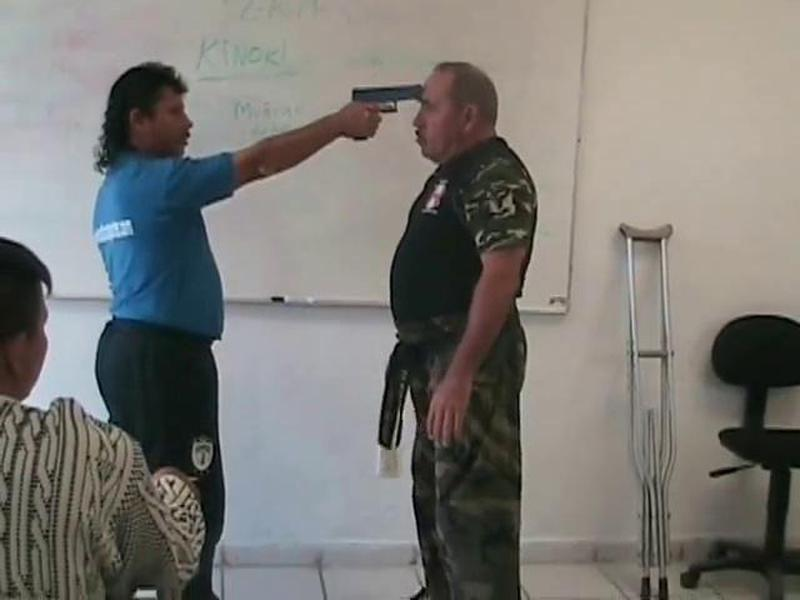Pistola: (343, 75, 425, 122)
